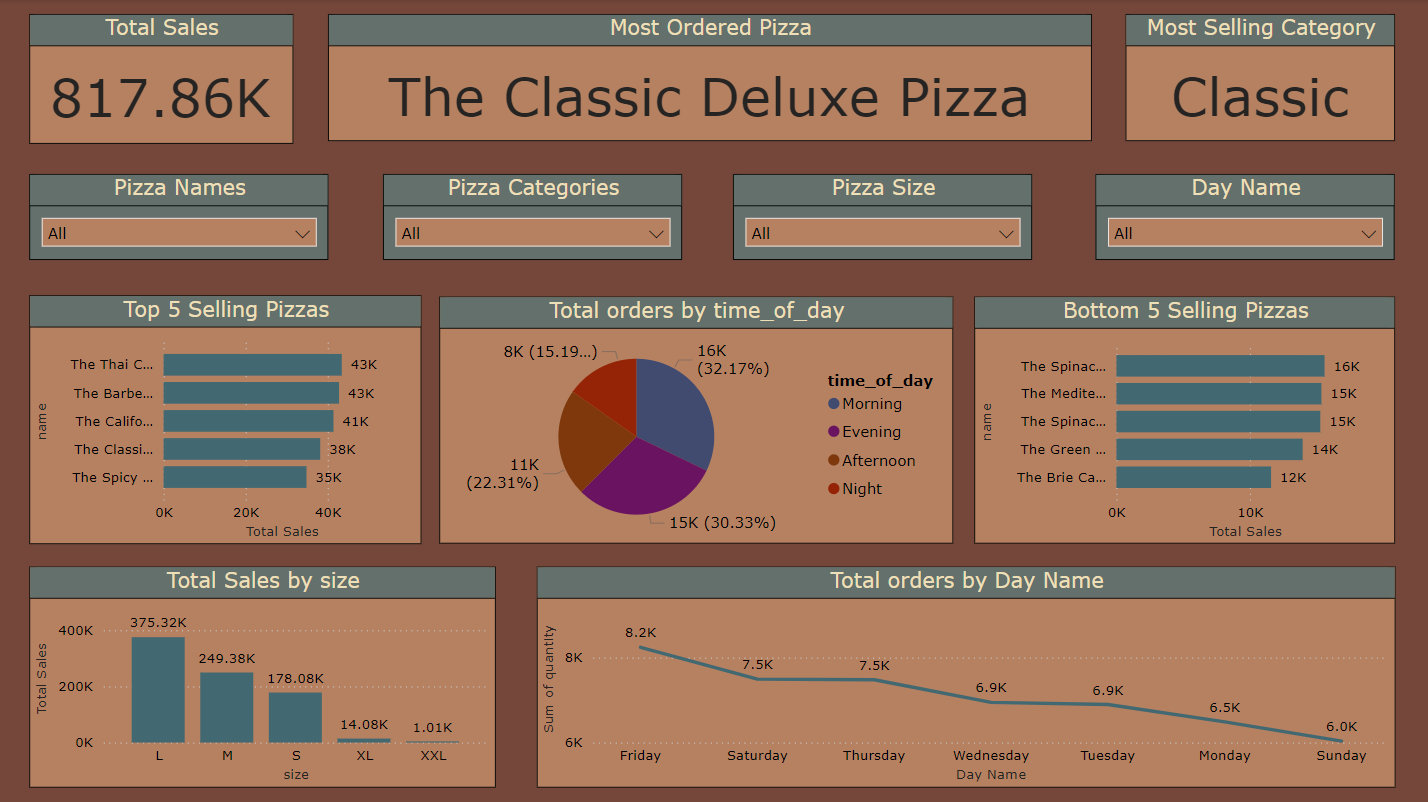

The page's visual inventory and layout, read from the dashboard file:
{"tool":"powerbi","page":{"name":"Page 1","canvas":[1280,720],"ordinal":0},"visuals":[{"type":"card","title":"Total Sales","fields":{"Values":["order details.Total Sales"]},"box":[27.9,13.4,235.6,116.1],"z":0},{"type":"card","title":"Most Ordered Pizza","fields":{"Values":["order details.Most Ordered Pizza"]},"box":[294.8,13.4,682.3,113.9],"z":1000},{"type":"card","title":"Most Selling Category","fields":{"Values":["order details.Hot Selling Category"]},"box":[1007.2,13.4,241.2,113.9],"z":2000},{"type":"barChart","title":"Top 5 Selling Pizzas","fields":{"Category":["pizza types.name"],"Y":["order details.Total Sales"]},"box":[27.9,264.6,350.6,222.2],"z":3000},{"type":"pieChart","title":"Total orders by time_of_day","fields":{"Category":["orders.time_of_day"],"Y":["Sum(order details.quantity)"]},"box":[394.2,265.8,458.9,221.1],"z":4000},{"type":"lineChart","title":"Total orders by Day Name","fields":{"Category":["orders.Day Name"],"Y":["Sum(order details.quantity)"]},"box":[481.3,507,767.1,197.6],"z":5000},{"type":"columnChart","fields":{"Category":["pizzas.size"],"Y":["order details.Total Sales"]},"box":[27.9,507,416.5,197.6],"z":6000},{"type":"slicer","title":"Pizza Names","fields":{"Values":["pizza types.name"]},"box":[27.9,155.8,267.4,76.7],"z":7000},{"type":"slicer","title":"Pizza Categories","fields":{"Values":["pizza types.category"]},"box":[344.2,155.8,267.4,76.7],"z":8000},{"type":"slicer","title":"Day Name","fields":{"Values":["orders.Day Name"]},"box":[980.2,155.8,267.4,76.7],"z":9000},{"type":"barChart","title":"Bottom 5 Selling Pizzas","fields":{"Category":["pizza types.name"],"Y":["order details.Total Sales"]},"box":[872.1,265.8,376.3,221.1],"z":10000},{"type":"slicer","title":"Pizza Size","fields":{"Values":["pizzas.size"]},"box":[657,155.8,267.4,76.7],"z":11000}]}

Visuals, with their boxes in screenshot pixels (x1, y1, x2, y2), scaled from the page's 1280x720 canvas onto the 1428x802 screenshot:
"Total Sales" card: detection(31, 15, 294, 144)
"Most Ordered Pizza" card: detection(329, 15, 1090, 142)
"Most Selling Category" card: detection(1124, 15, 1393, 142)
"Top 5 Selling Pizzas" barChart: detection(31, 295, 422, 542)
"Total orders by time_of_day" pieChart: detection(440, 296, 952, 542)
"Total orders by Day Name" lineChart: detection(537, 565, 1393, 785)
columnChart - pizzas.size x order details.Total Sales: detection(31, 565, 496, 785)
"Pizza Names" slicer: detection(31, 174, 329, 259)
"Pizza Categories" slicer: detection(384, 174, 682, 259)
"Day Name" slicer: detection(1094, 174, 1392, 259)
"Bottom 5 Selling Pizzas" barChart: detection(973, 296, 1393, 542)
"Pizza Size" slicer: detection(733, 174, 1031, 259)
